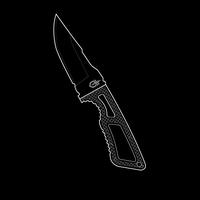knife: (45, 6, 152, 182)
